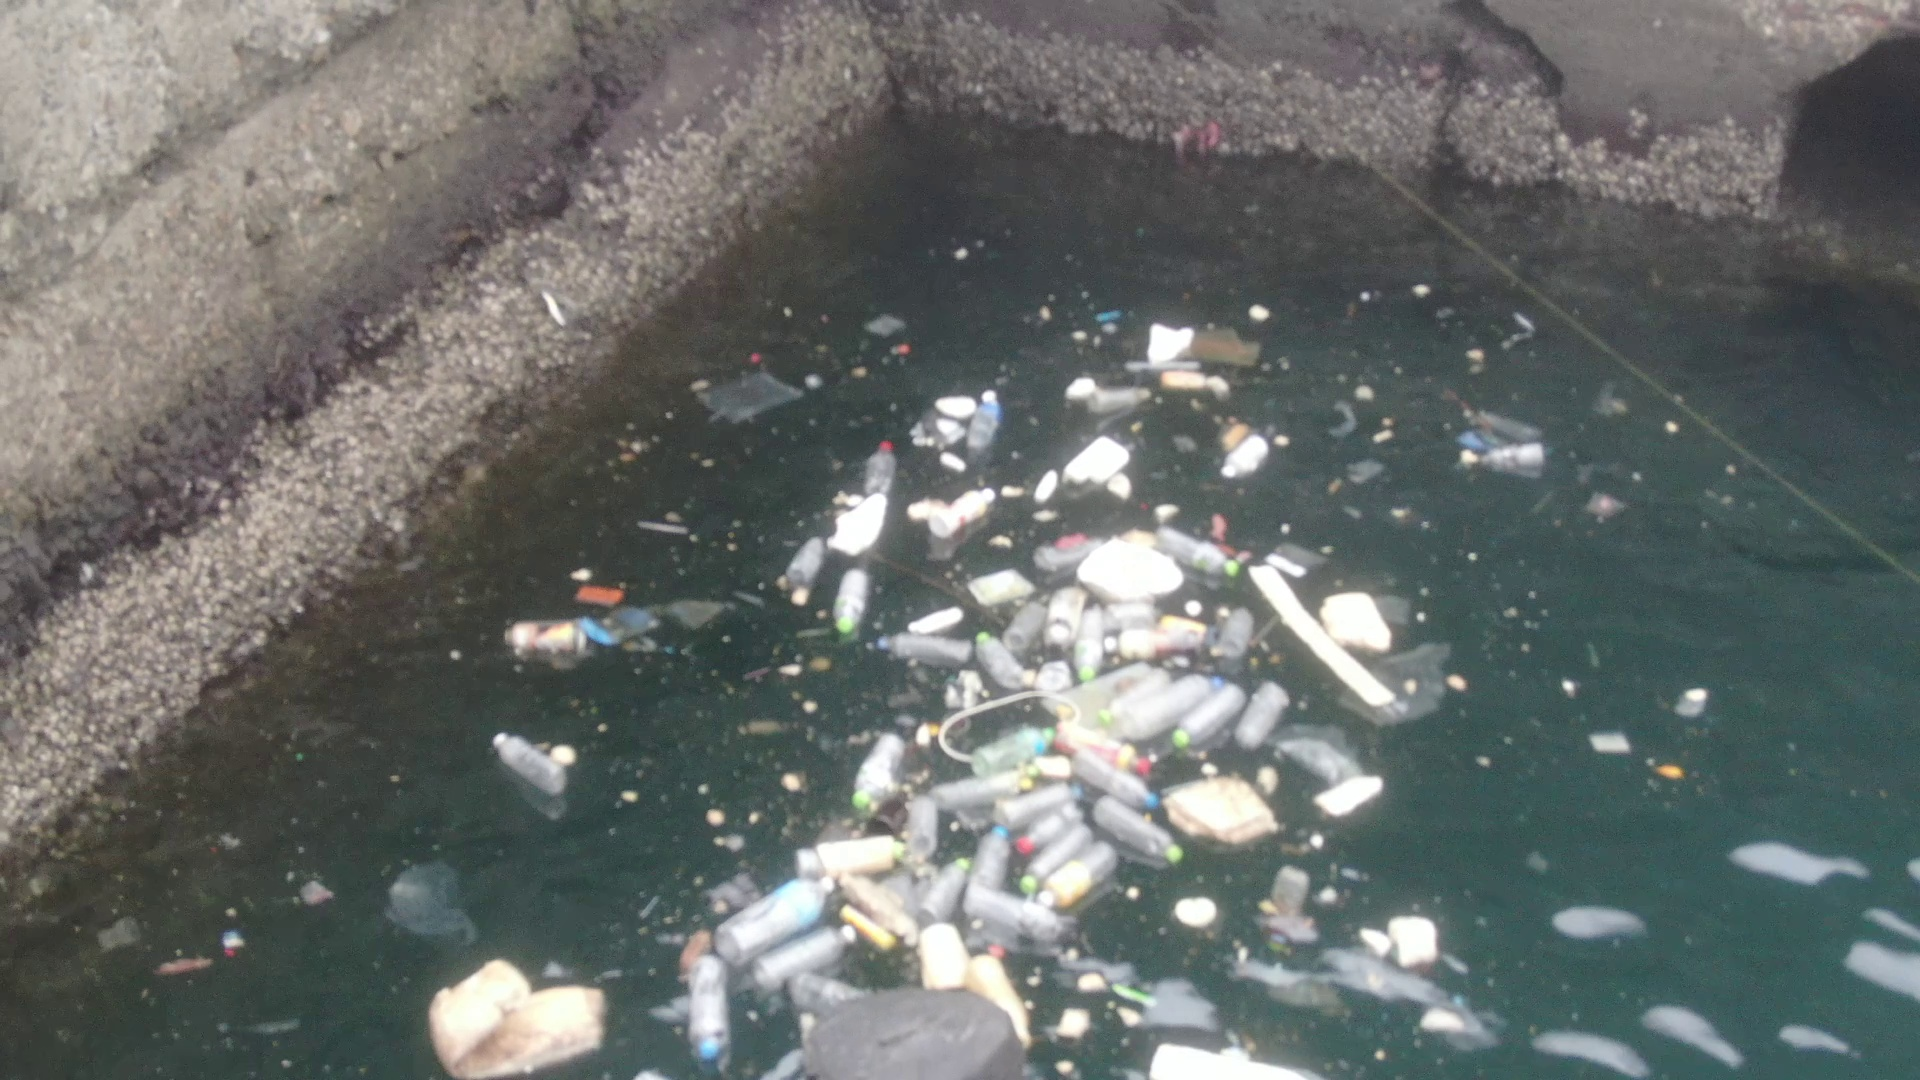bottle: (698, 869, 845, 963), (680, 934, 745, 1077), (487, 724, 580, 815), (1160, 674, 1257, 760), (487, 611, 603, 673), (1048, 727, 1160, 790), (1093, 793, 1189, 865), (847, 723, 913, 824), (916, 849, 984, 927), (963, 624, 1030, 694), (828, 554, 876, 644), (971, 825, 1023, 901), (852, 435, 907, 497), (968, 381, 1007, 451)
garbage: (676, 233, 1555, 702), (465, 488, 1484, 869), (330, 796, 1455, 1080)
